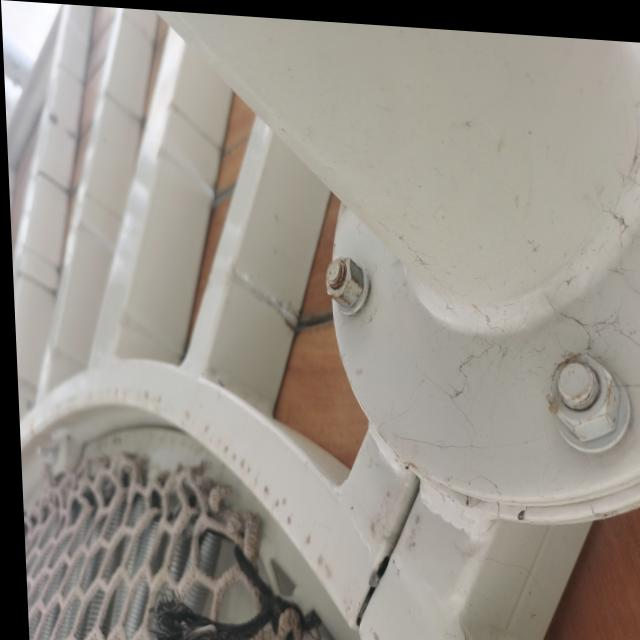Rusty bolt: (543, 343, 618, 437), (322, 251, 362, 305)
